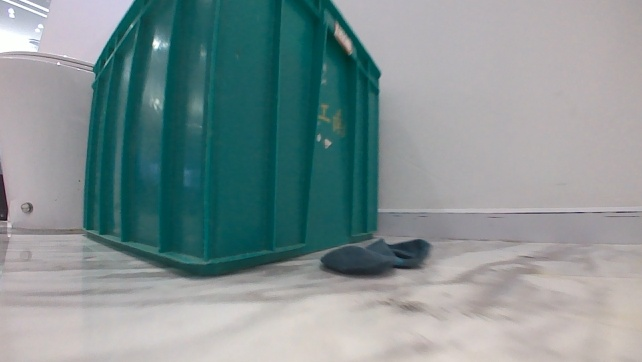socks: (315, 233, 433, 277)
toilet: (0, 46, 97, 232)
